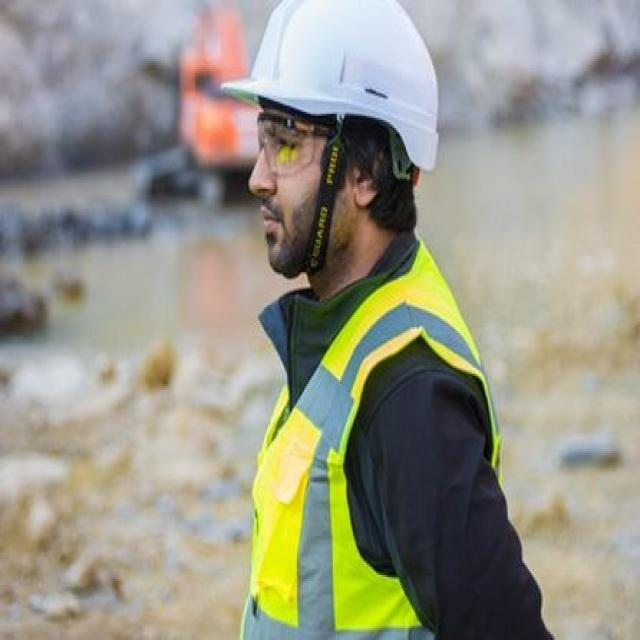Reflective-Jacket: (240, 260, 510, 626)
Safety-Helmet: (224, 4, 442, 175)
